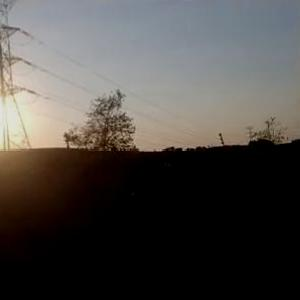follow: (111, 157, 175, 299)
